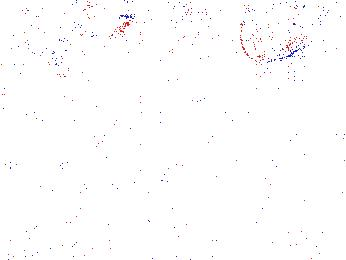moon jellyfish: (238, 1, 328, 65), (88, 16, 155, 98), (127, 5, 223, 48), (13, 1, 95, 46), (1, 1, 35, 93)
